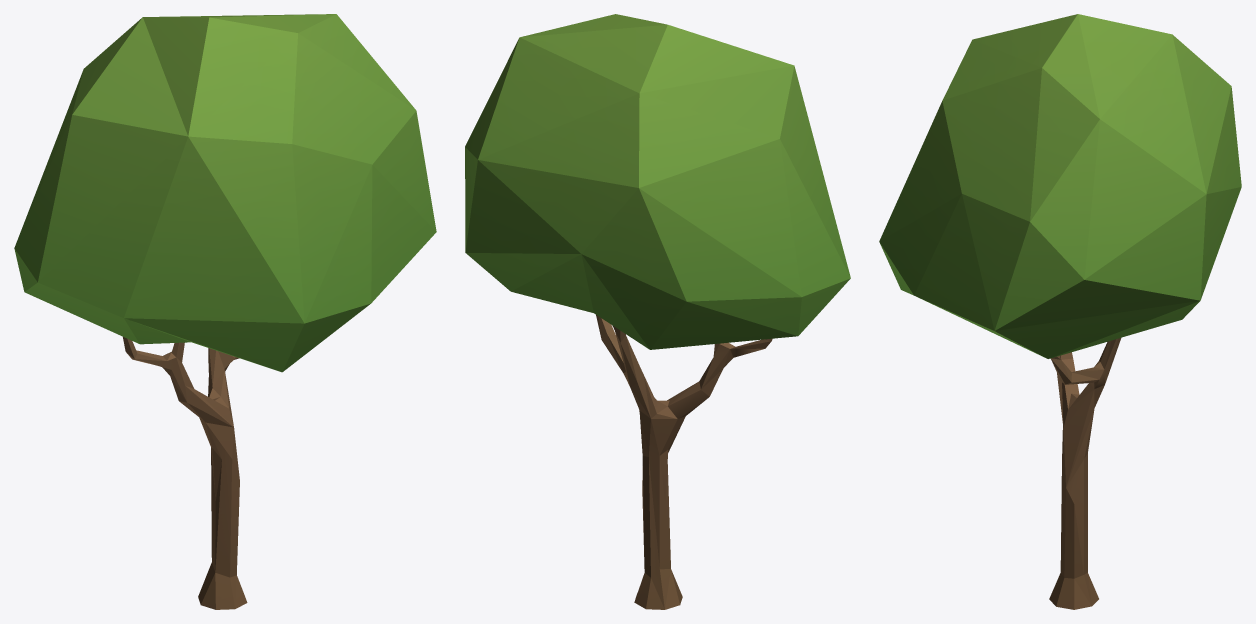
File: SM_Nature_Tree_02.fbx
3 views of the same model, side by side, from view 1: azimuth 30°, elevation 25°; view 2: azimuth 150°, elevation 25°; view 3: azimuth 270°, elevation 25° (orthographic).
Parts seen in each view (by area): view 1: SM_Nature_Tree_02_LOD0; view 2: SM_Nature_Tree_02_LOD0; view 3: SM_Nature_Tree_02_LOD0.
Boxes of the visible parts, left/top/right/bottom form: SM_Nature_Tree_02_LOD0: left=14, top=14, right=436, bottom=609; SM_Nature_Tree_02_LOD0: left=465, top=14, right=850, bottom=609; SM_Nature_Tree_02_LOD0: left=879, top=14, right=1241, bottom=609.
Bounding box in the file's own units: 7.87 × 11.58 × 6.56.
